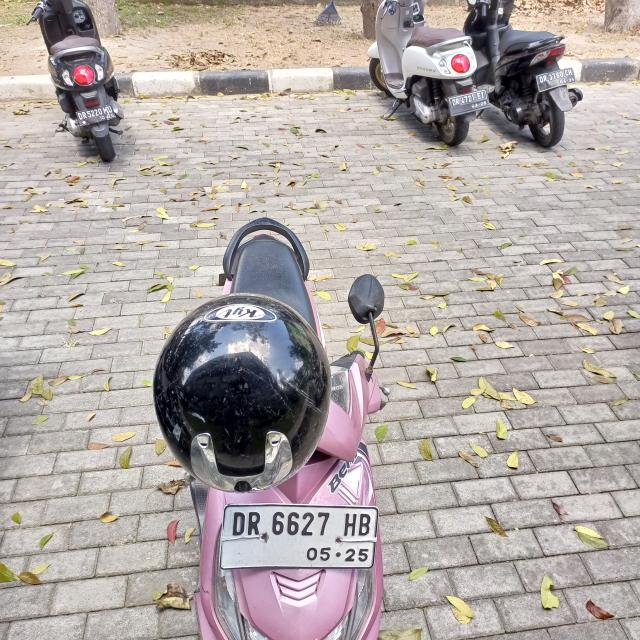plate: (220, 502, 380, 573), (447, 88, 491, 117), (536, 66, 577, 93), (76, 103, 117, 128)
